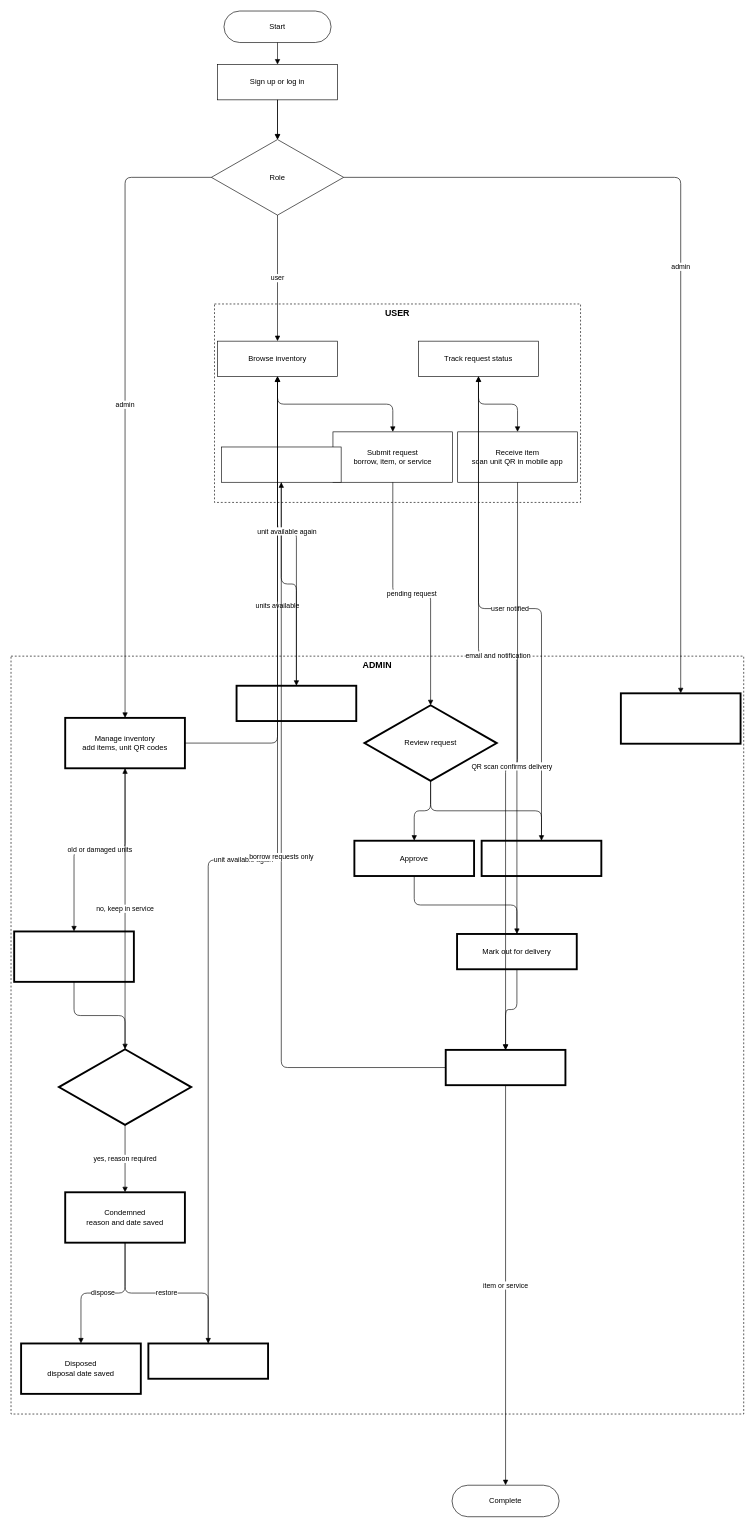
Some shapes in this 755 by 1528 pixel diagram are drawn without their labels. Here are the shapes that lost their labels. From the top down, the centre of each, then its label:
(x=281, y=464): Return borrowed item
(x=296, y=703): Record return
(x=680, y=718): Manage users, view reports, change settings
(x=541, y=858): Disapprove with reason
(x=74, y=956): Evaluate equipment condemnation page
(x=125, y=1086): Condemn unit?
(x=505, y=1067): Mark delivered
(x=208, y=1360): Restore to service
